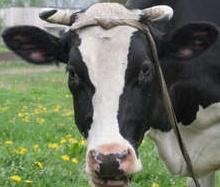muzzles: (81, 143, 144, 187)
